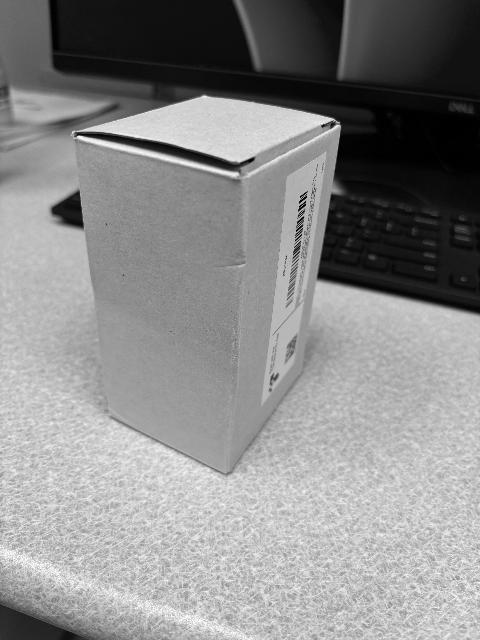CameraBox1: (72, 95, 342, 478)
